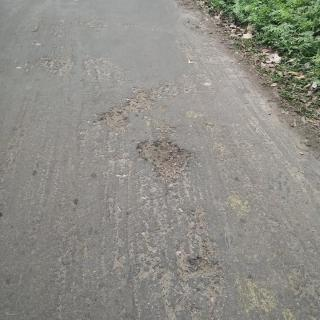pothole: (133, 138, 193, 185)
